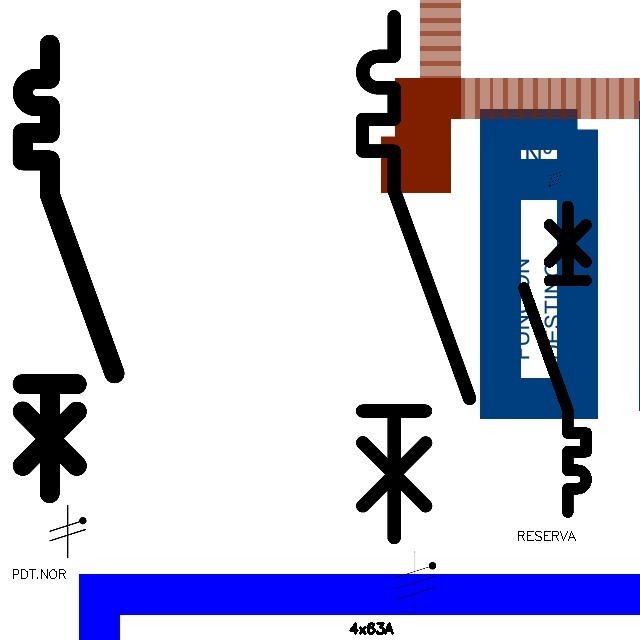interruptor_termomagnetico: (349, 3, 483, 550), (11, 33, 126, 504), (516, 198, 594, 519)
